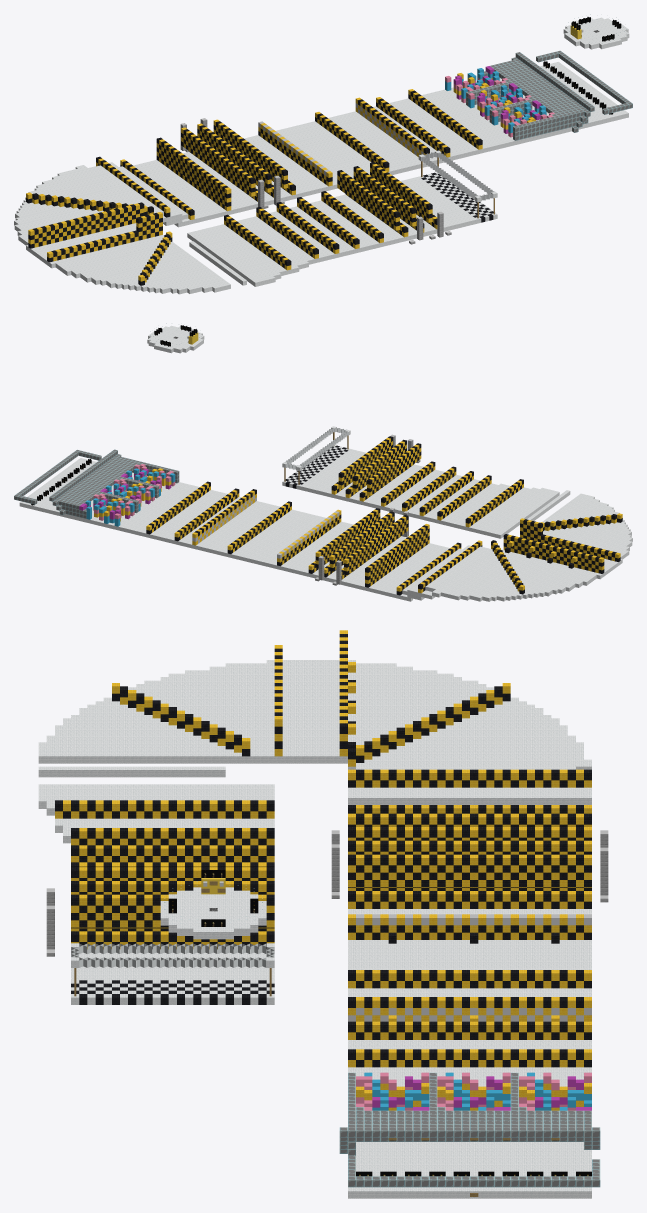
File: minecraft.obj
3 views of the same model, one above another, from view 1: azimuth 30°, elevation 25°; view 2: azimuth 150°, elevation 25°; view 3: azimuth 270°, elevation 25° (orthographic). The views are drawn at different scales.
Bounding box in the file's own units: 149 × 34 × 70.
